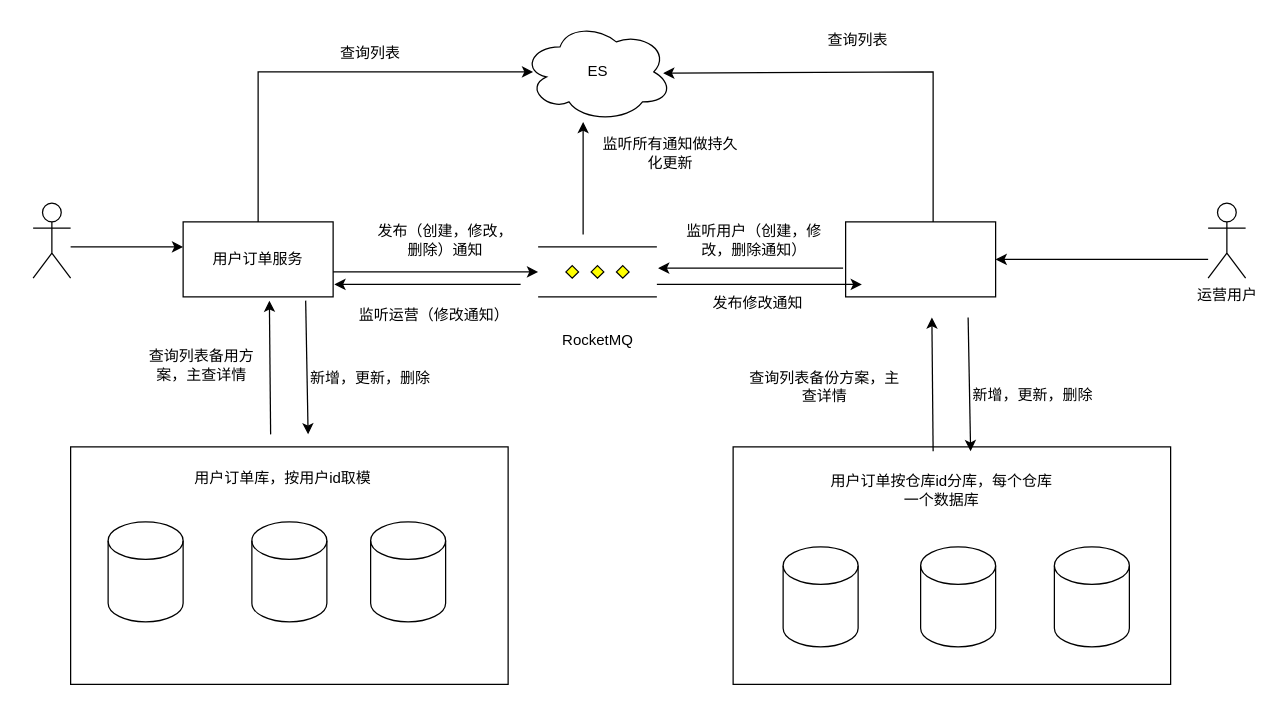
Image size: 1279x706. Some labels were removed from this diagram. The centre of each missing label's shape, as x and y in pixels:
"商城用户" goes at (51,240).
"运营订单服务" goes at (920,259).
